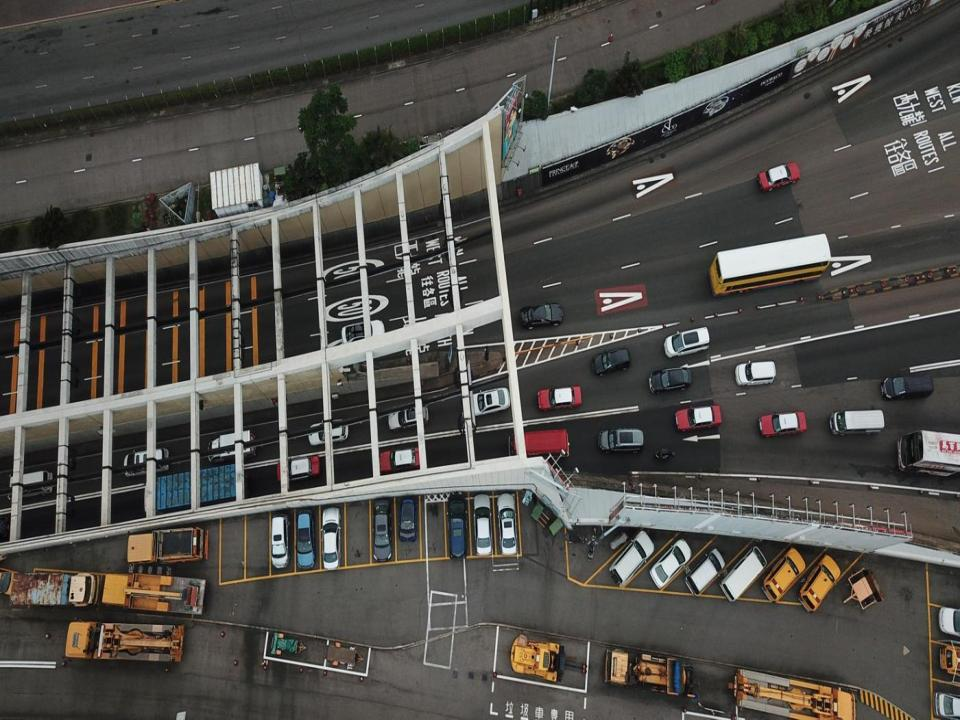bus: (708, 234, 831, 299), (896, 429, 960, 477), (508, 428, 569, 459)
car: (649, 538, 691, 590), (466, 386, 510, 418), (320, 507, 342, 569), (519, 300, 563, 330), (758, 411, 806, 438), (676, 404, 722, 432), (757, 162, 800, 191), (372, 500, 392, 562), (296, 509, 316, 569), (497, 494, 517, 554), (276, 454, 320, 481), (649, 366, 691, 394), (341, 319, 384, 346), (308, 417, 348, 446), (473, 494, 492, 554), (269, 514, 290, 568), (377, 447, 422, 471), (537, 386, 582, 410), (398, 499, 418, 542), (933, 691, 960, 718), (938, 606, 960, 638), (0, 568, 23, 596)
truck: (728, 668, 856, 719), (143, 464, 250, 516), (604, 647, 702, 699), (64, 620, 184, 662), (102, 573, 206, 615), (10, 570, 100, 607), (127, 527, 208, 565), (208, 430, 256, 464)
van: (719, 546, 766, 603), (798, 553, 840, 613), (609, 531, 654, 586), (761, 547, 805, 602), (685, 547, 725, 596), (829, 409, 885, 436), (664, 326, 710, 358), (446, 494, 468, 559), (880, 374, 934, 400), (123, 448, 169, 476), (598, 427, 643, 453), (10, 470, 52, 497), (388, 404, 429, 431), (735, 360, 776, 386), (591, 348, 630, 375), (939, 645, 960, 676)
